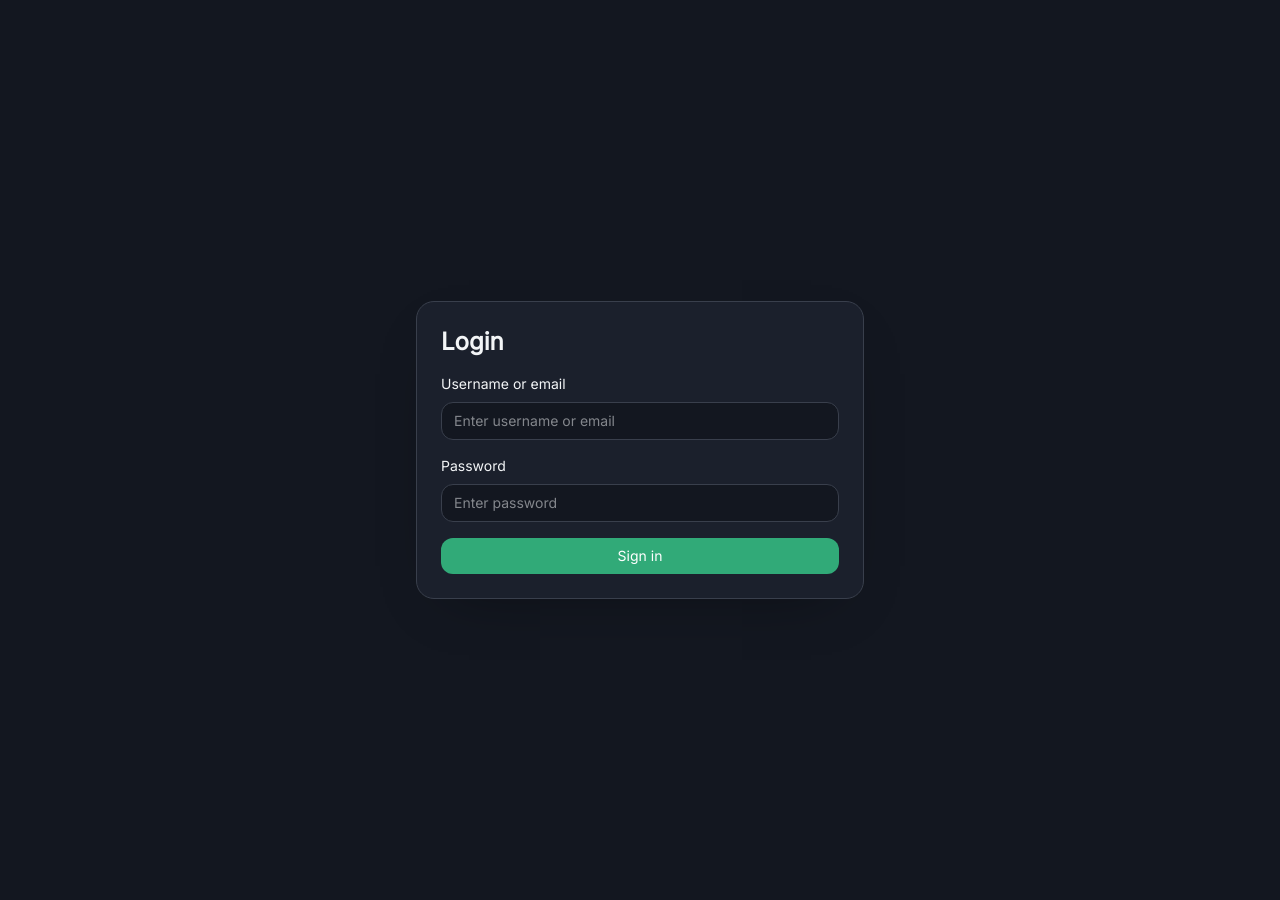
Test: App › loads spaces after login so the account menu can switch spaces immediately
This screenshot has width=1280, height=900.
Submit the form from the button "Sign in", box [441,538,839,574]
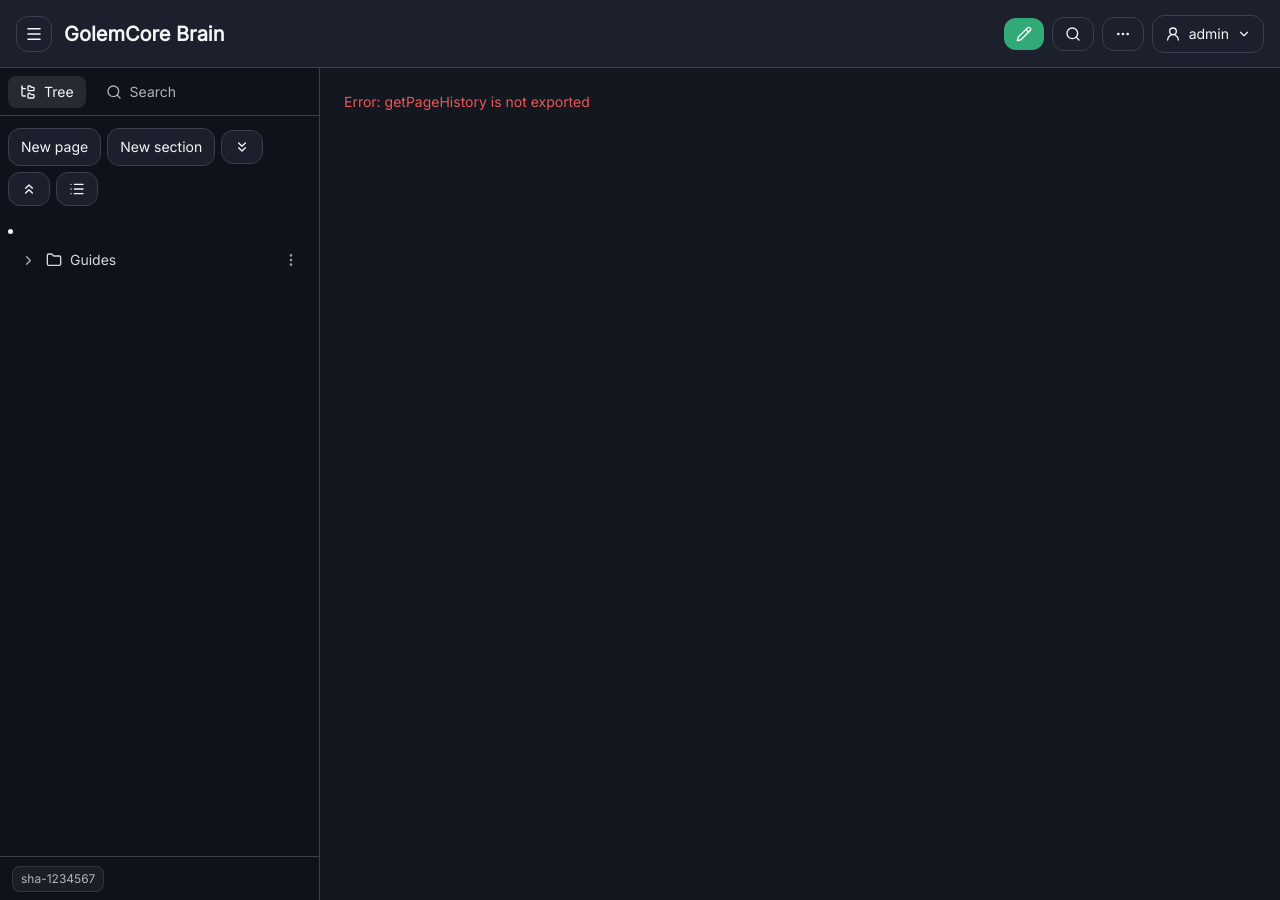
Click the button with aria-label "Account menu for admin": click(1208, 34) [1152,14,1264,52]
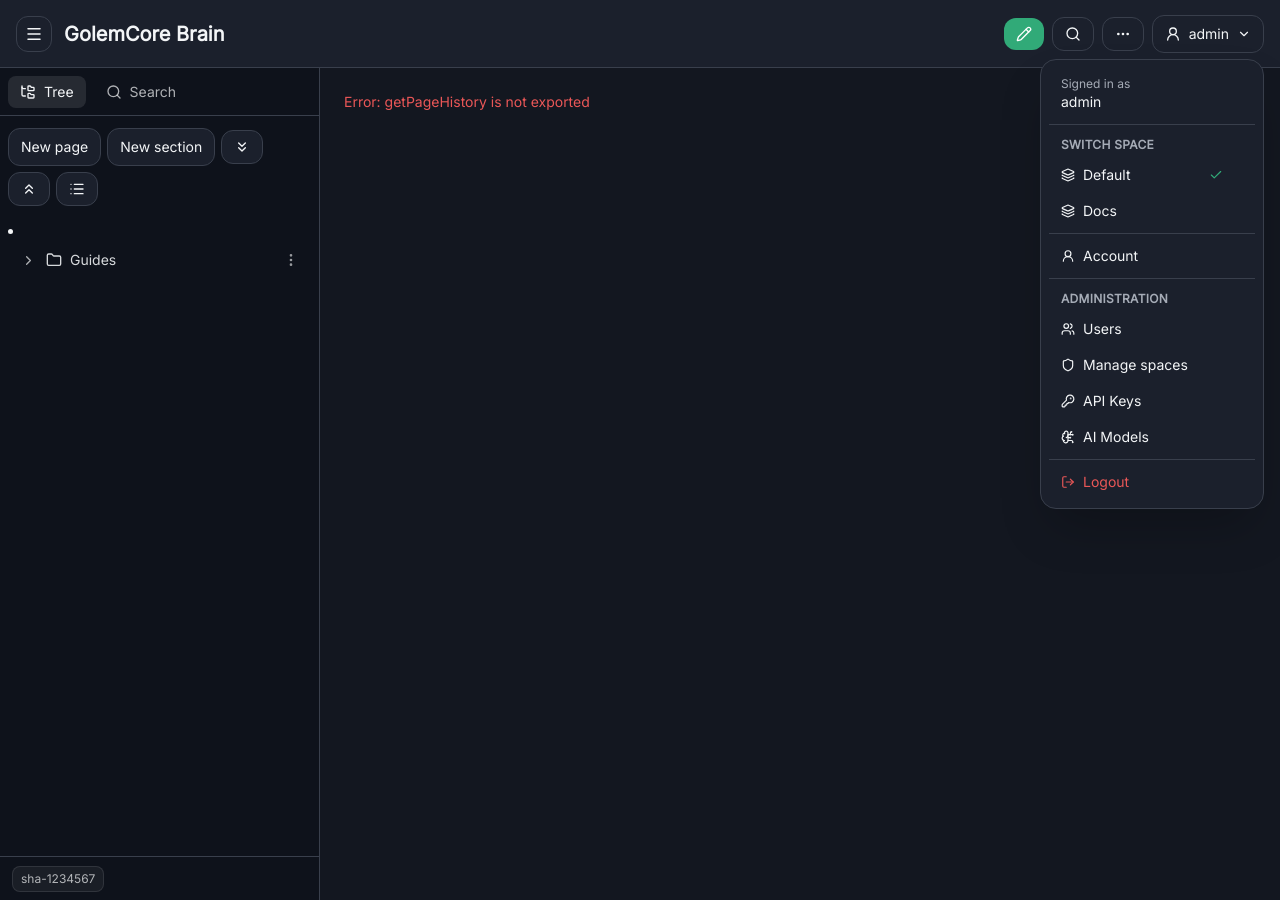
Expected: the menu item "Default" is shown, [1061,166,1223,183]
Expected: the menu item "Docs" is shown, [1061,202,1117,219]
